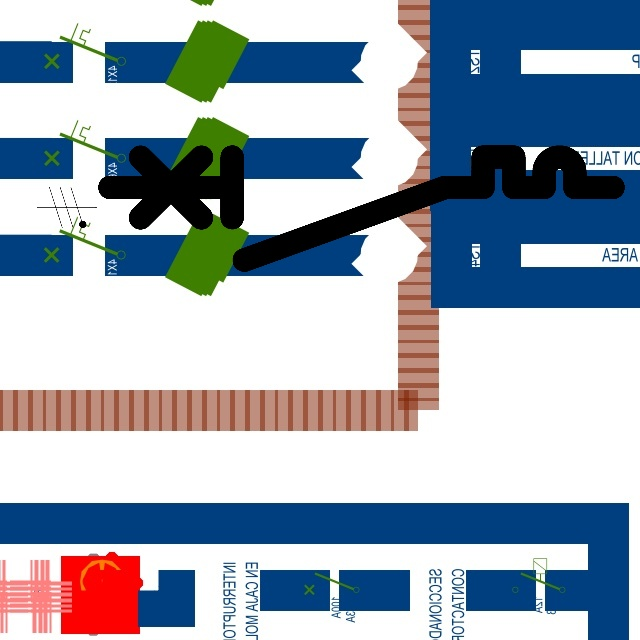interruptor_termomagnetico: (96, 144, 625, 273)
